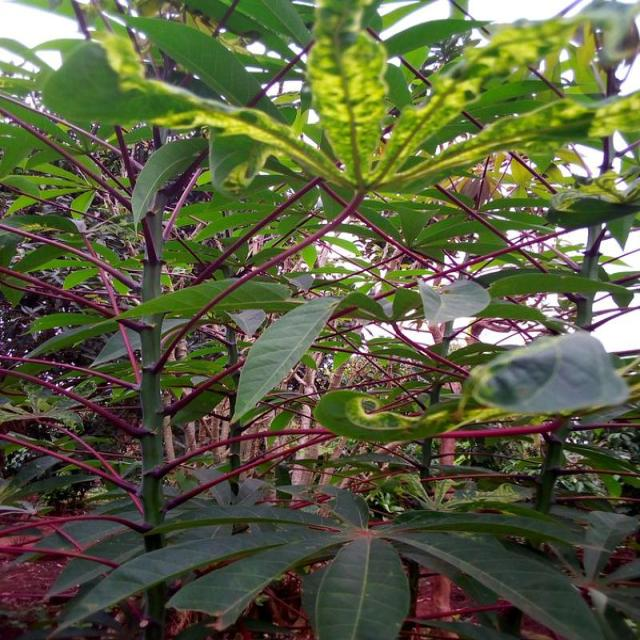cassava leaf: (0, 0, 638, 638), (228, 293, 342, 426), (469, 329, 630, 419)
